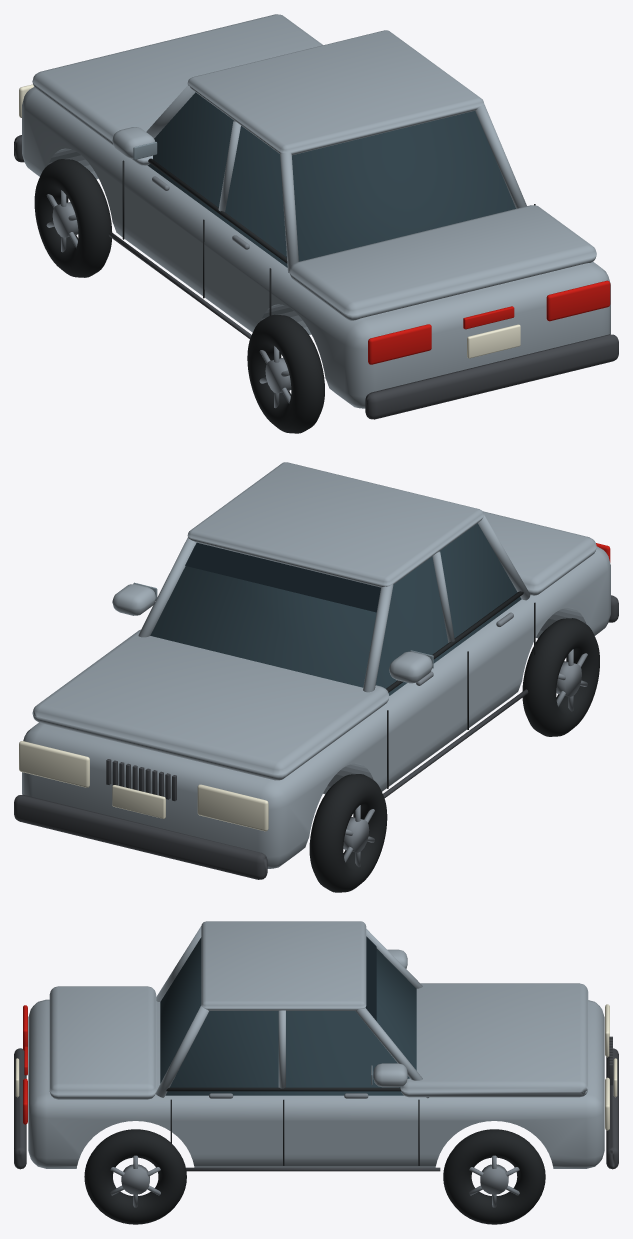
The model's file is sedan.glb.
3 renders of one model, top to bottom at view 1: azimuth 30°, elevation 25°; view 2: azimuth 150°, elevation 25°; view 3: azimuth 270°, elevation 25°, orthographic. The views are drawn at different scales.
Parts seen in each view (by area): view 1: Paint, Window glass, Rubber, Engine, Tail lamp, Brushed steel, Headlight; view 2: Paint, Window glass, Rubber, Engine, Headlight, Window sunstrip, Brushed steel; view 3: Paint, Window glass, Rubber, Engine, Brushed steel, Headlight, Window sunstrip, Tail lamp.
Part boxes in pixels (x1=…): Paint: x1=22, y1=14, x2=610, y2=408; Window glass: x1=147, y1=92, x2=515, y2=267; Rubber: x1=34, y1=158, x2=535, y2=433; Engine: x1=14, y1=135, x2=618, y2=419; Tail lamp: x1=368, y1=280, x2=610, y2=364; Brushed steel: x1=46, y1=176, x2=291, y2=408; Headlight: x1=19, y1=84, x2=520, y2=358; Paint: x1=22, y1=462, x2=610, y2=868; Window glass: x1=150, y1=523, x2=521, y2=695; Rubber: x1=309, y1=591, x2=599, y2=892; Engine: x1=14, y1=595, x2=618, y2=879; Headlight: x1=19, y1=741, x2=268, y2=831; Window sunstrip: x1=185, y1=542, x2=380, y2=612; Brushed steel: x1=343, y1=612, x2=587, y2=867; Paint: x1=28, y1=921, x2=604, y2=1168; Window glass: x1=160, y1=937, x2=416, y2=1095; Rubber: x1=84, y1=1087, x2=545, y2=1224; Engine: x1=14, y1=1036, x2=618, y2=1171; Brushed steel: x1=110, y1=1093, x2=519, y2=1207; Headlight: x1=15, y1=1004, x2=617, y2=1130; Window sunstrip: x1=365, y1=936, x2=376, y2=1020; Tail lamp: x1=23, y1=1005, x2=27, y2=1124.
Bounding box in the file's own units: 2.1 × 1.59 × 4.25.
